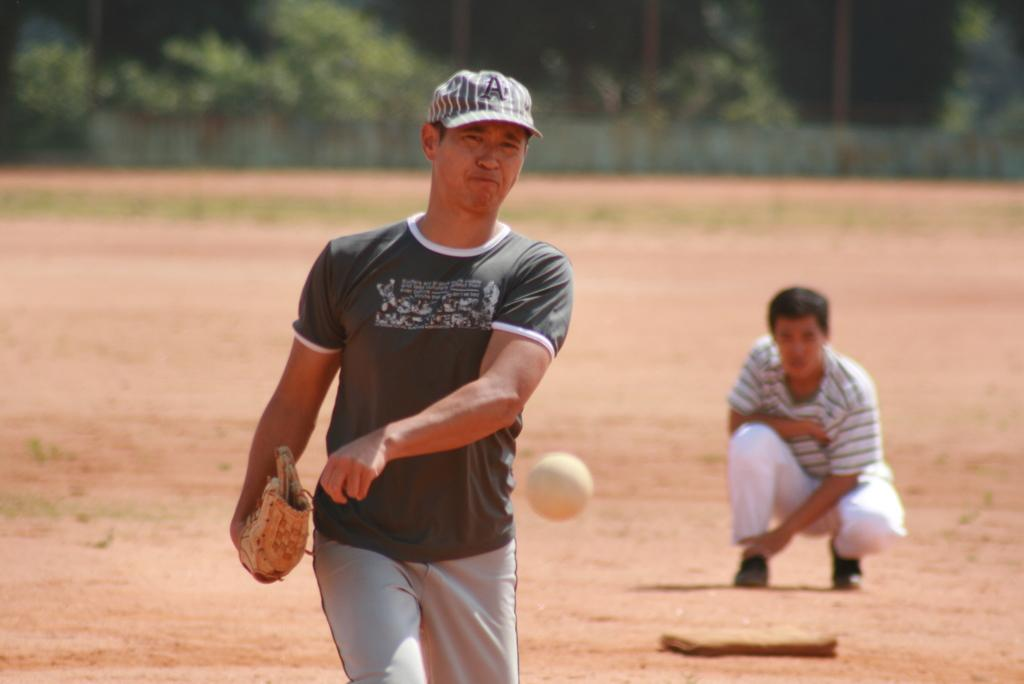Hat: (424, 62, 542, 132)
